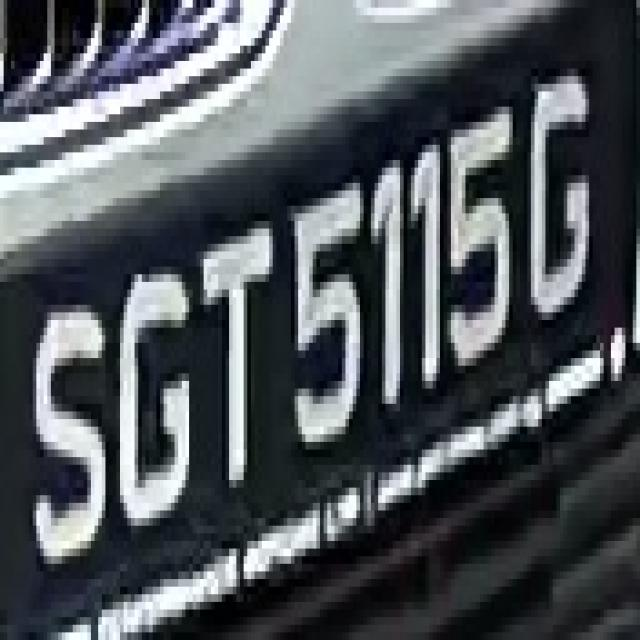1: (404, 114, 451, 434), (371, 137, 400, 442)
5: (287, 183, 375, 449), (451, 99, 520, 389)
G: (109, 228, 200, 526), (520, 61, 604, 328)
S: (26, 282, 106, 587)
T: (193, 190, 280, 510)
